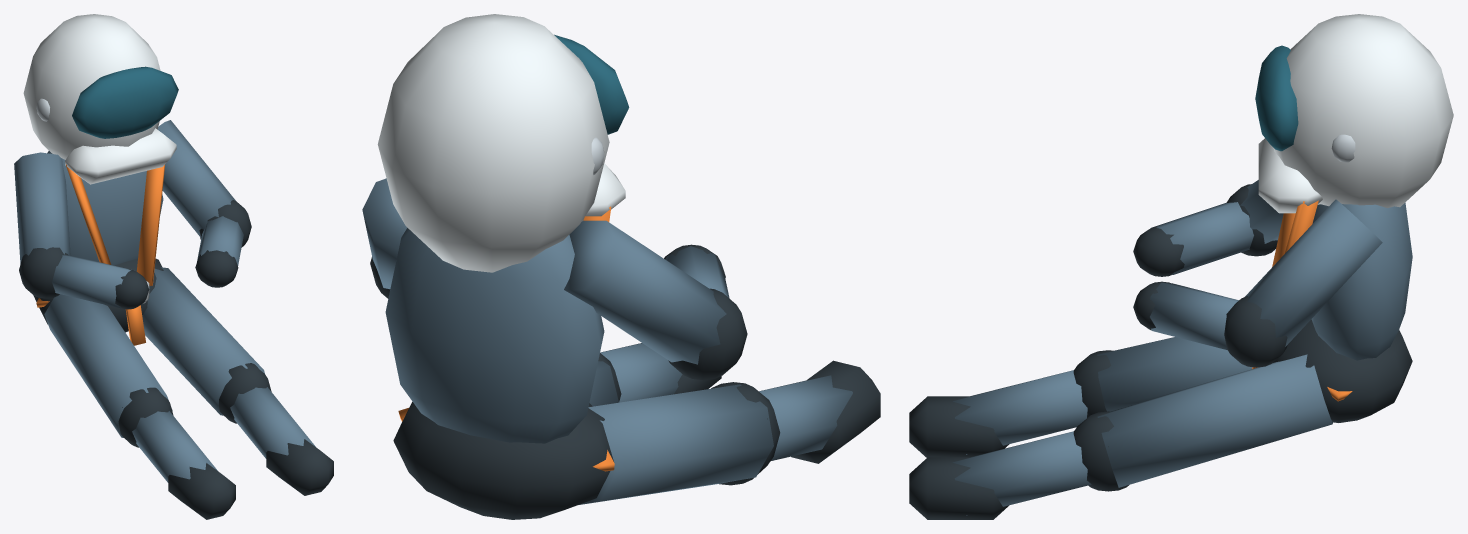
File: race-driver-lod.glb
The picture shows the model from 3 angles, left to right: view 1: azimuth 30°, elevation 25°; view 2: azimuth 150°, elevation 25°; view 3: azimuth 270°, elevation 25°; orthographic projection. The views are drawn at different scales.
Visible parts, largest first — view 1: Chin guard, Thigh, Thigh.001, Visor, Race jacket, arm_r, arm_l, Shin.001, Shin, forearm_r, boot_l, boot_r (+11 smaller); view 2: Chin guard, Race jacket, Pelvis, Thigh.001, arm_r, Shin.001, boot_r, Shin, arm_l, elbow_r, Visor, forearm_r (+2 smaller); view 3: Chin guard, Thigh, Race jacket, arm_l, Thigh.001, Pelvis, Shin, Shin.001, boot_l, boot_r, forearm_r, forearm_l (+9 smaller).
Boxes of the visible parts, x1,y1,x2,y2 form: Chin guard: (23,14,176,184); Thigh: (142,267,265,415); Thigh.001: (44,294,172,437); Visor: (72,66,178,138); Race jacket: (47,151,163,265); arm_r: (14,152,70,264); arm_l: (157,120,235,237); Shin.001: (132,411,217,504); Shin: (230,387,315,480); forearm_r: (52,255,131,308); boot_l: (266,439,333,495); boot_r: (168,463,235,519); Chin guard: (377,14,625,272); Race jacket: (385,228,604,443); Pelvis: (393,402,613,519); Thigh.001: (579,384,773,504); arm_r: (564,220,726,364); Shin.001: (759,375,852,460); boot_r: (791,360,880,463); Shin: (600,343,682,402); arm_l: (362,178,407,289); elbow_r: (668,288,747,380); Visor: (554,34,629,134); forearm_r: (665,246,729,298); Chin guard: (1258,14,1453,213); Thigh: (1097,354,1333,487); Race jacket: (1311,202,1412,360); arm_l: (1245,199,1382,346); Thigh.001: (1097,337,1252,411); Pelvis: (1273,319,1412,422); Shin: (952,431,1091,515); Shin.001: (953,370,1087,454); boot_l: (909,457,1008,519); boot_r: (909,396,1009,457); forearm_r: (1150,202,1253,274); forearm_l: (1150,282,1238,349).
Size of the model in its own units: 0.81 by 1.25 by 1.32.
